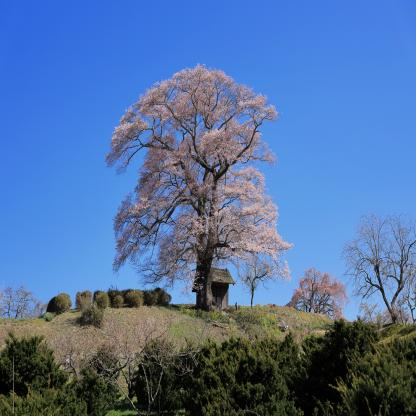EdohiganSakura: (105, 63, 294, 306), (285, 265, 352, 325)
